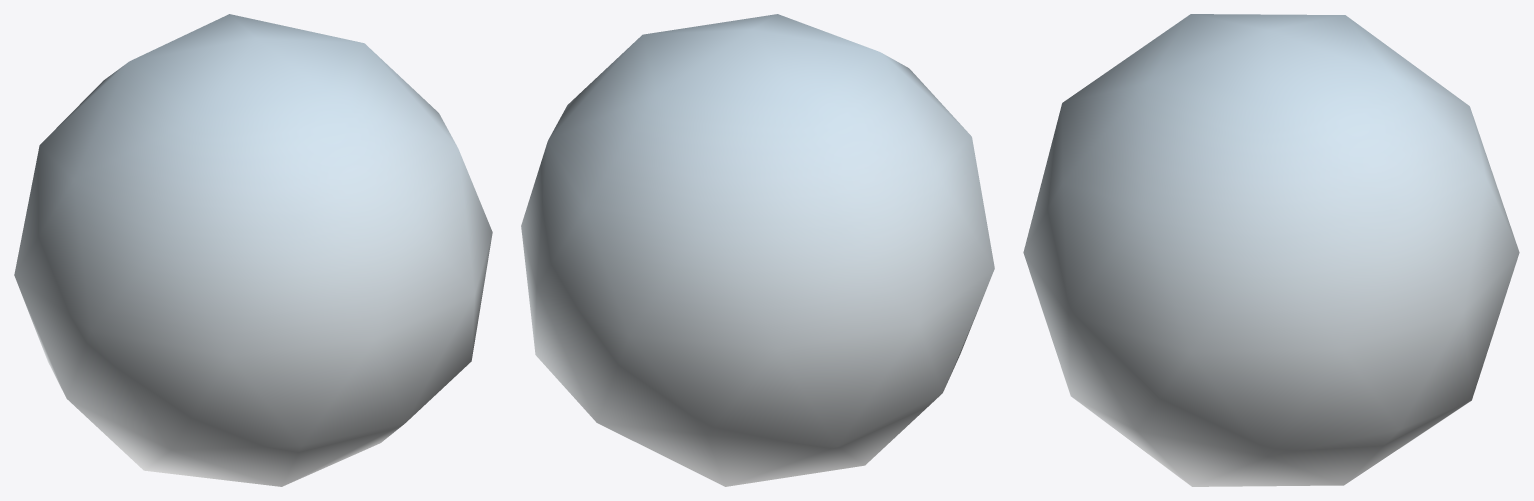
Rendered from Yeti_Snowball.fbx.
The picture shows the model from 3 angles, left to right: view 1: azimuth 30°, elevation 25°; view 2: azimuth 150°, elevation 25°; view 3: azimuth 270°, elevation 25°; orthographic projection. The views are drawn at different scales.
Visible parts, largest first — view 1: Yeti_Snowball; view 2: Yeti_Snowball; view 3: Yeti_Snowball.
Part boxes in pixels (<box>): Yeti_Snowball: <box>14,14,492,486</box>; Yeti_Snowball: <box>521,14,994,486</box>; Yeti_Snowball: <box>1023,14,1519,486</box>.
Bounding box in the file's own units: 0.9347 × 0.956 × 0.9656.
